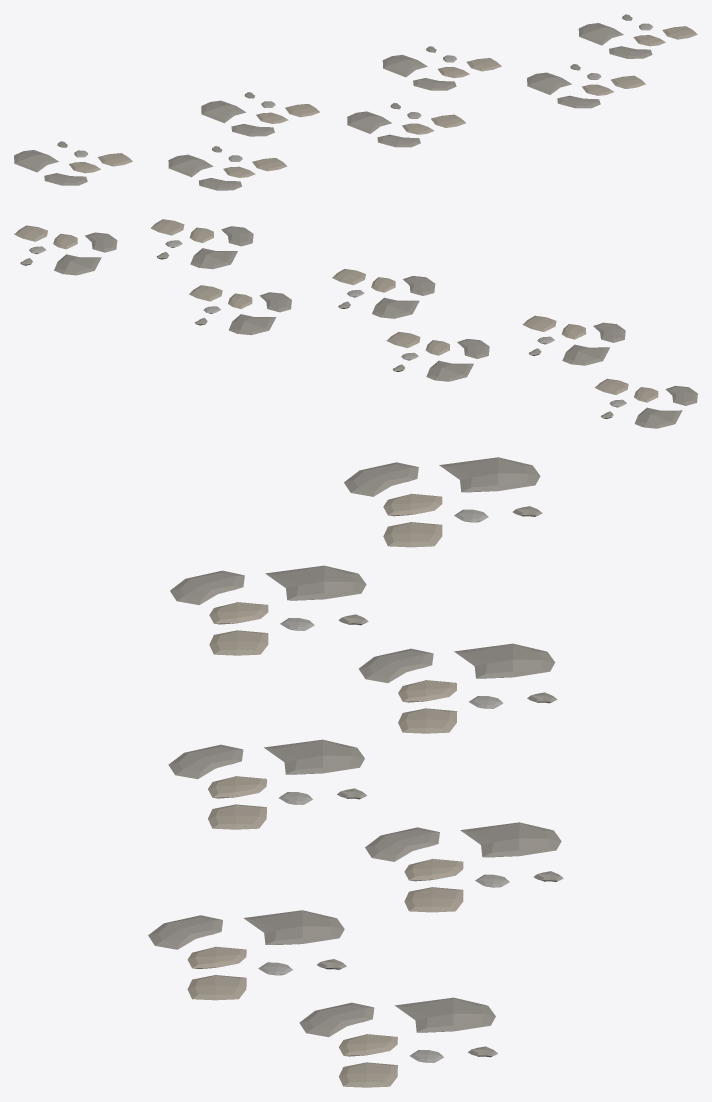
The model's file is Stone_path_Straight.fbx.
3 renders of one model, top to bottom at view 1: azimuth 30°, elevation 25°; view 2: azimuth 150°, elevation 25°; view 3: azimuth 270°, elevation 25°, orthographic. The views are drawn at different scales.
Parts seen in each view (by area): view 1: group1_Stone_path1_Stone_01; view 2: group1_Stone_path1_Stone_01; view 3: group1_Stone_path1_Stone_01.
Boxes of the visible parts, x1,y1,x2,y2 form: group1_Stone_path1_Stone_01: [14, 14, 697, 190]; group1_Stone_path1_Stone_01: [14, 219, 697, 428]; group1_Stone_path1_Stone_01: [148, 457, 563, 1087].
Size of the model in its own units: 1786 by 13.68 by 498.
